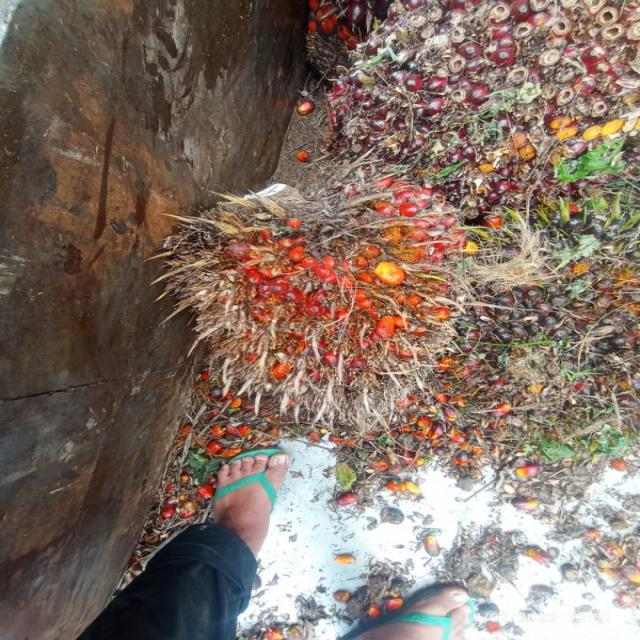fraksi 00: (448, 145, 640, 446)
fraksi 1: (323, 0, 640, 208)
fraksi 4: (149, 125, 515, 436)
